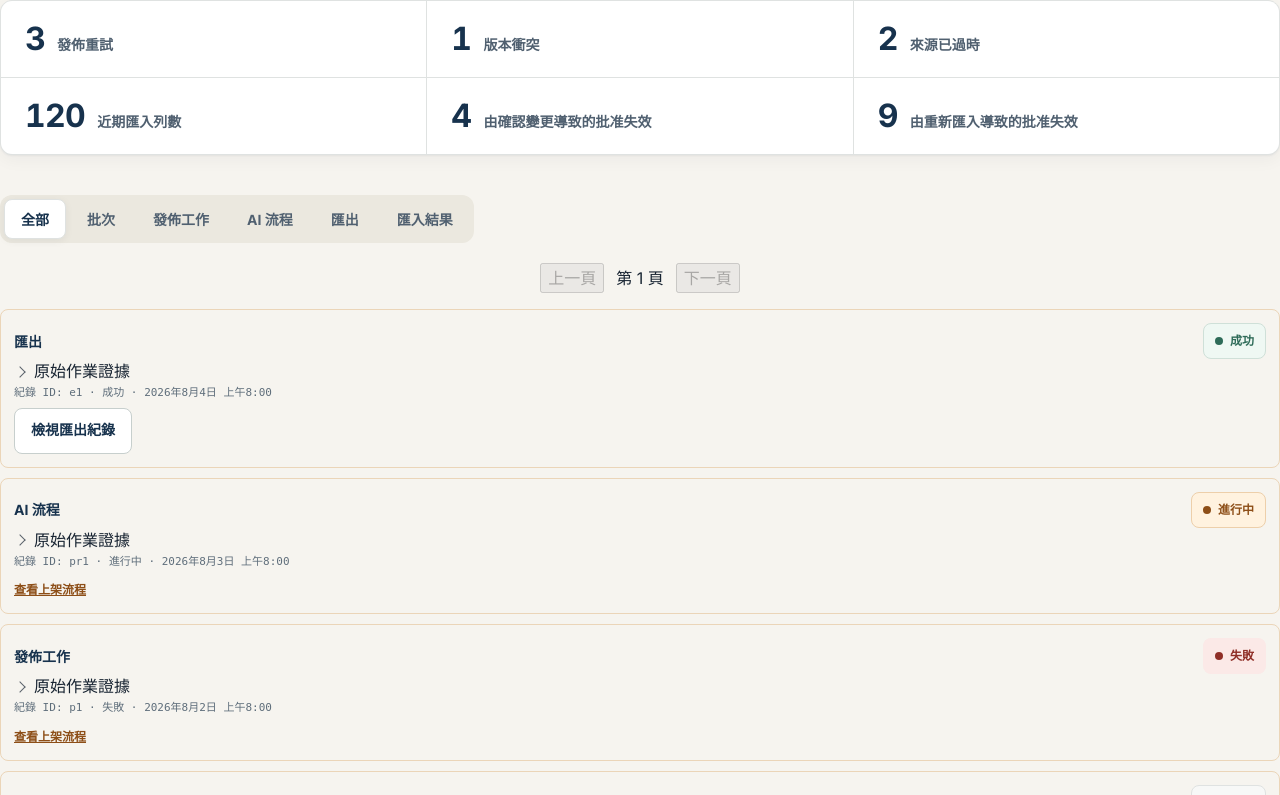
Test: JobsLedgerClient › renders and filters on the import_result kind
The image size is (1280, 795).
Click the button "匯入結果" at (425, 219), box [380, 199, 470, 239]
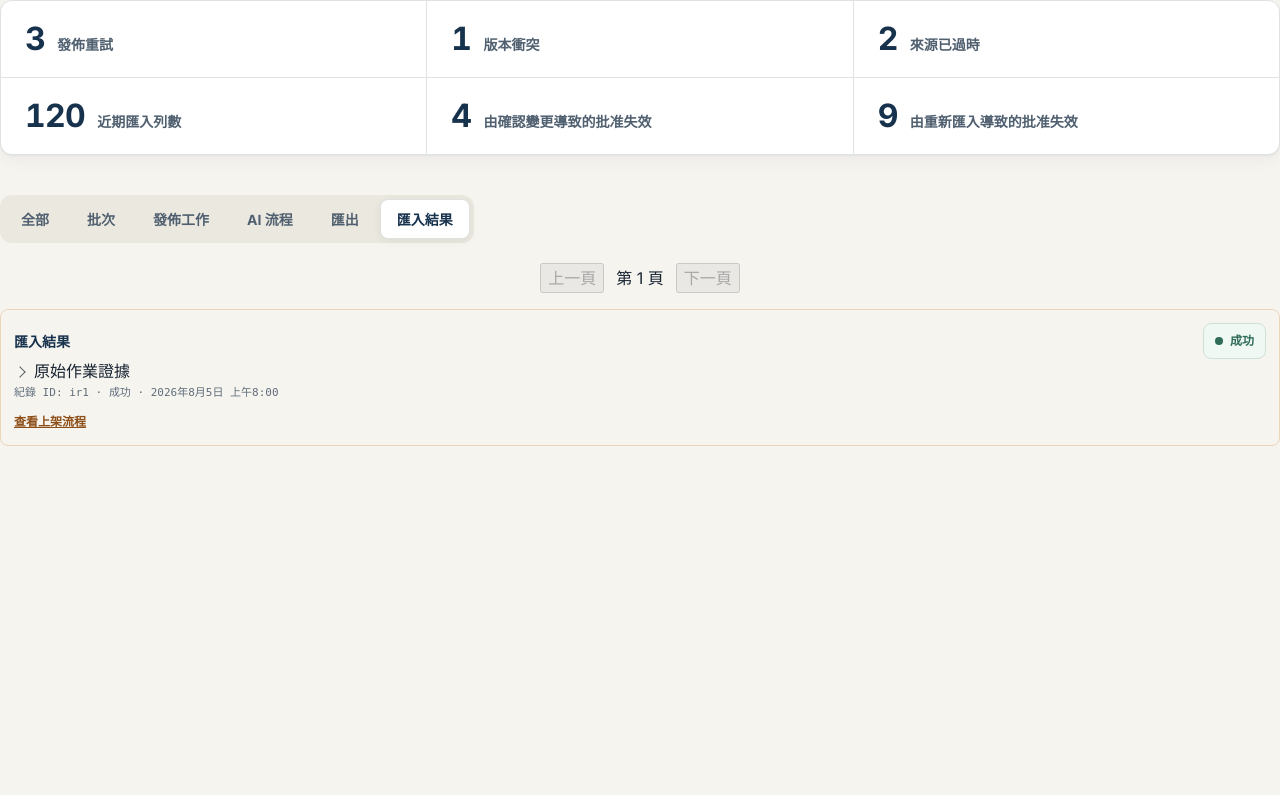
Now the number of list items with class "flag-item" is 1, box [0, 309, 1279, 446]
